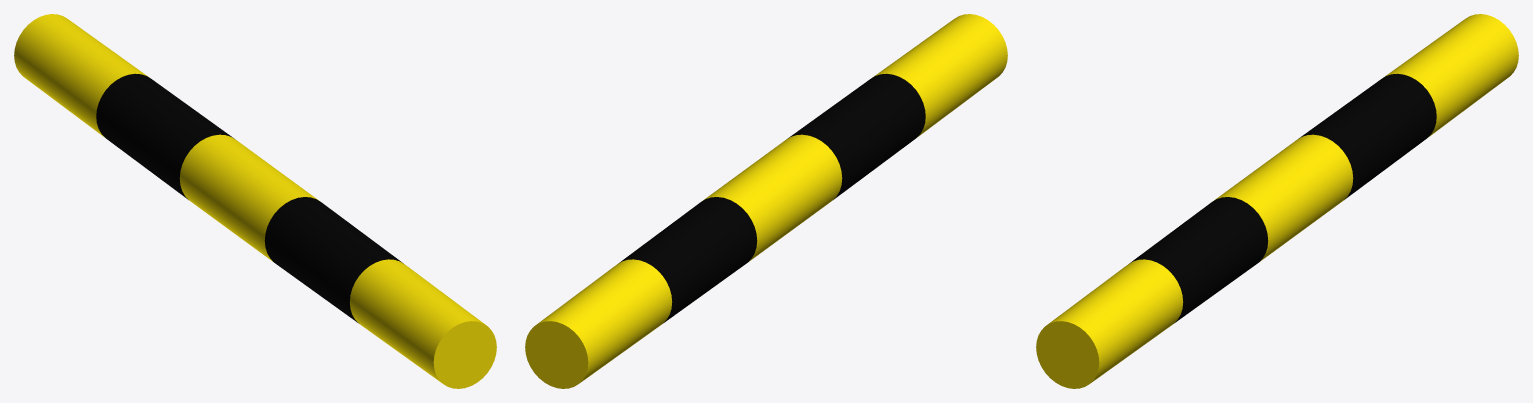
File: side bar1.fbx
The picture shows the model from 3 angles, left to right: view 1: azimuth 30°, elevation 25°; view 2: azimuth 150°, elevation 25°; view 3: azimuth 330°, elevation 25°; orthographic projection.
Parts seen in each view (by area): view 1: Cylinder; view 2: Cylinder; view 3: Cylinder.
Boxes of the visible parts, x1,y1,x2,y2 form: Cylinder: (14, 14, 496, 388); Cylinder: (525, 14, 1007, 388); Cylinder: (1036, 14, 1518, 388).
Bounding box in the file's own units: 101 × 101 × 1104.
